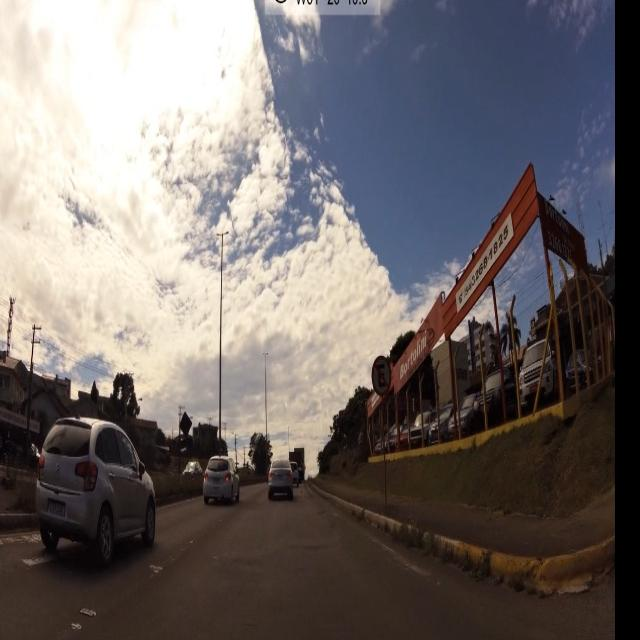R-6a: (372, 355, 392, 398)
